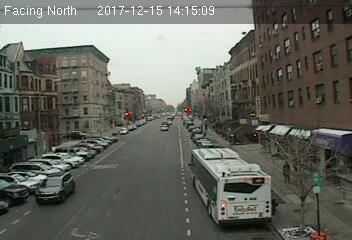bus: (190, 148, 274, 229)
car: (34, 171, 75, 203)
pedestrian: (284, 161, 291, 183)
